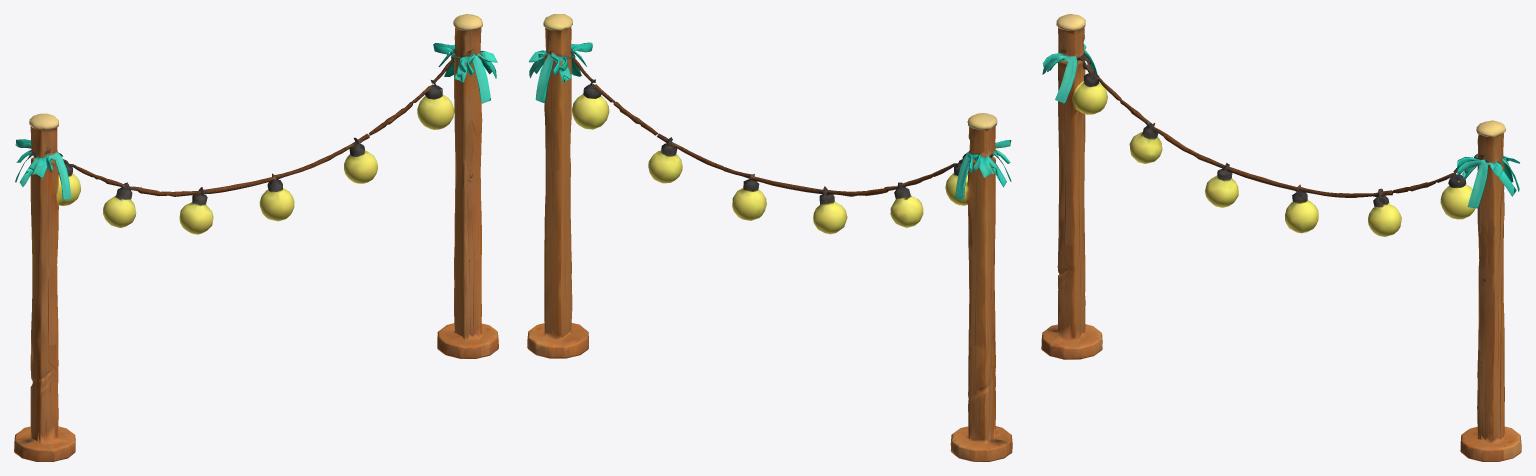
The model's file is string lights 3d model.glb.
3 renders of one model, left to right at view 1: azimuth 30°, elevation 25°; view 2: azimuth 150°, elevation 25°; view 3: azimuth 330°, elevation 25°, orthographic.
Visible parts, largest first — view 1: tripo_node_dc1d1001-62ed-43ac-b1e3-7590e5646a53; view 2: tripo_node_dc1d1001-62ed-43ac-b1e3-7590e5646a53; view 3: tripo_node_dc1d1001-62ed-43ac-b1e3-7590e5646a53.
Boxes of the visible parts, left/top/right/bottom form: tripo_node_dc1d1001-62ed-43ac-b1e3-7590e5646a53: left=14, top=14, right=498, bottom=461; tripo_node_dc1d1001-62ed-43ac-b1e3-7590e5646a53: left=527, top=14, right=1012, bottom=461; tripo_node_dc1d1001-62ed-43ac-b1e3-7590e5646a53: left=1041, top=14, right=1521, bottom=461.
Size of the model in its own units: 1 by 0.6678 by 0.1423.
Materials: 1 (1 with a texture image).
